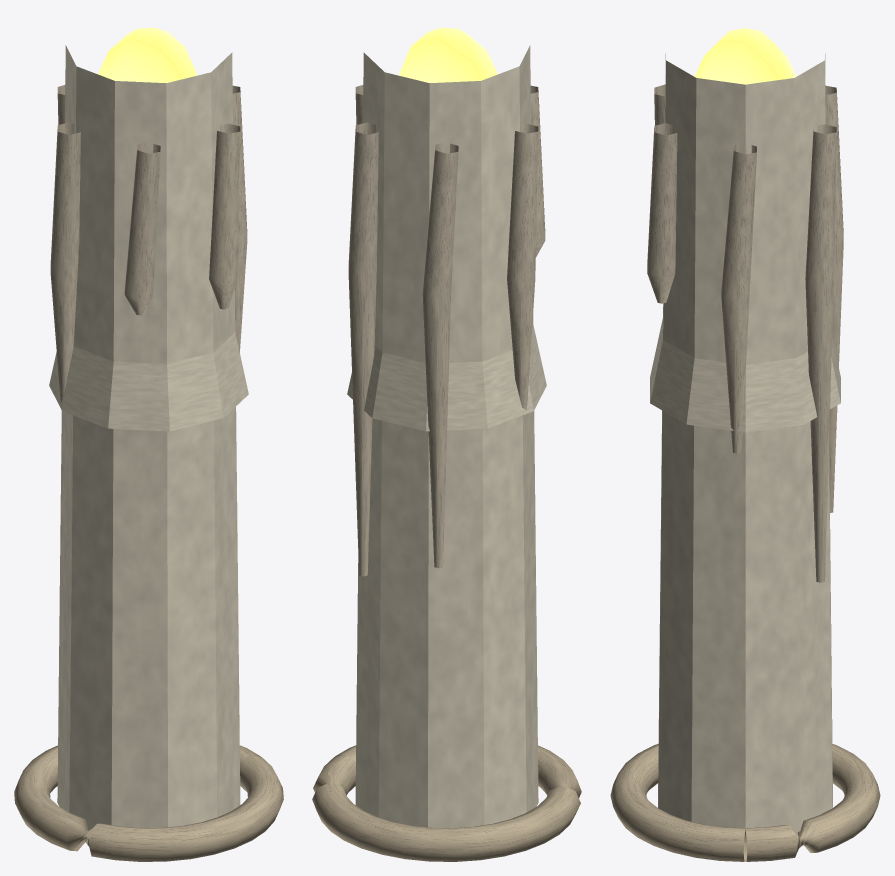
Rendered from candle.glb.
3 renders of one model, left to right at view 1: azimuth 30°, elevation 25°; view 2: azimuth 150°, elevation 25°; view 3: azimuth 270°, elevation 25°, orthographic.
Visible parts, largest first — view 1: Stick, Art_PaperFolds, Wax, Art_Parchment, Flame; view 2: Stick, Art_PaperFolds, Art_Parchment, Wax, Flame; view 3: Stick, Art_PaperFolds, Art_Parchment, Wax, Flame.
Part boxes in pixels (x1,y1,x2,y2): Stick: (57, 45, 240, 829); Art_PaperFolds: (50, 85, 247, 403); Wax: (49, 332, 248, 431); Art_Parchment: (14, 745, 283, 861); Flame: (98, 27, 196, 82); Stick: (355, 45, 538, 828); Art_PaperFolds: (348, 85, 545, 576); Art_Parchment: (312, 745, 581, 861); Wax: (347, 324, 546, 431); Flame: (399, 27, 497, 82); Stick: (658, 53, 832, 833); Art_PaperFolds: (647, 84, 843, 582); Art_Parchment: (610, 744, 880, 861); Wax: (650, 318, 840, 432); Flame: (694, 28, 796, 84).
Bounding box in the file's own units: 0.0646 × 0.2061 × 0.0646.
Materials: 5 (4 with a texture image).
